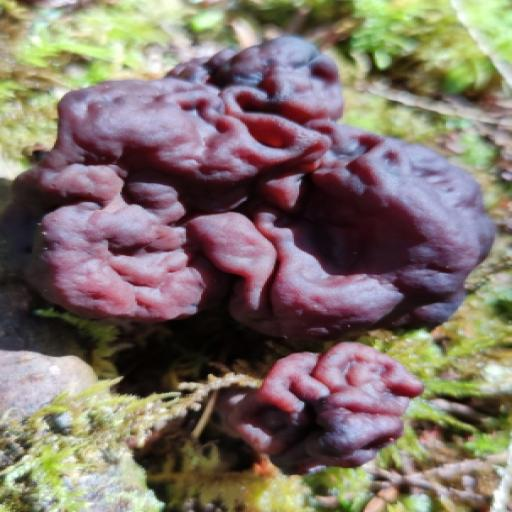False Morel: (13, 7, 503, 385), (232, 340, 417, 475)
